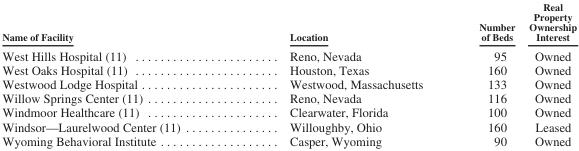table: (1, 0, 576, 147)
table column: (1, 0, 234, 147), (234, 0, 450, 147), (450, 0, 521, 147), (521, 0, 576, 147)
table column header: (1, 0, 576, 45)
table row: (1, 0, 576, 45), (1, 45, 576, 62), (1, 104, 576, 119), (1, 62, 576, 76), (1, 76, 576, 90), (1, 90, 576, 104), (1, 119, 576, 133), (1, 133, 576, 147)
